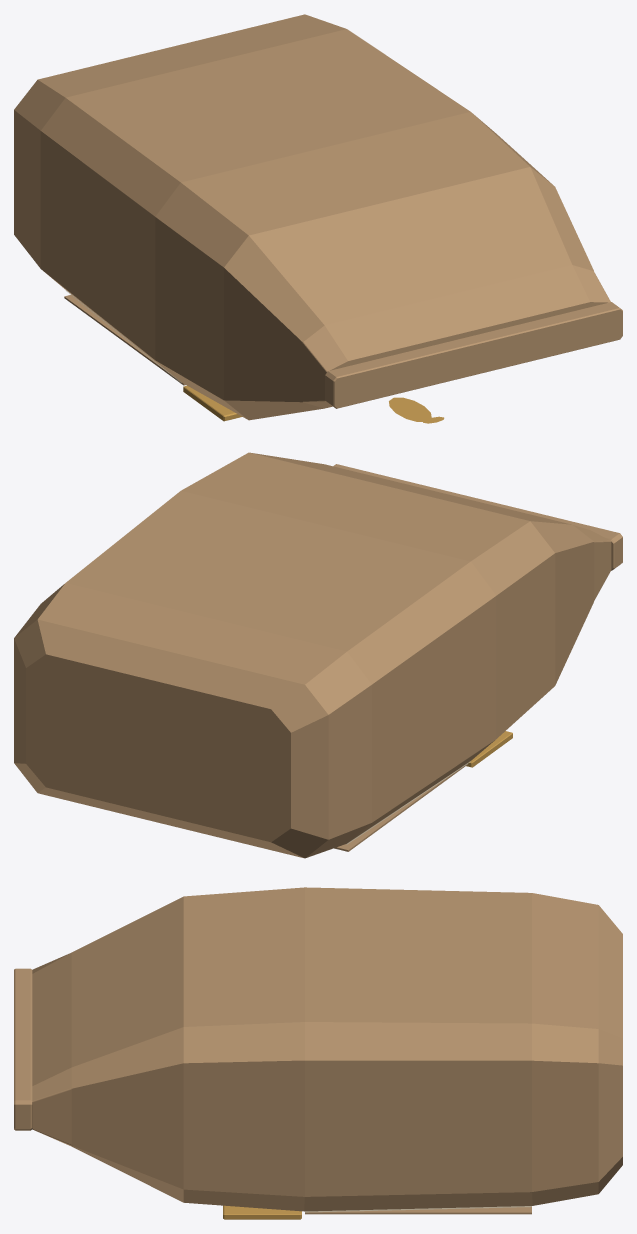
File: polenta.glb
3 views of the same model, one above another, from view 1: azimuth 30°, elevation 25°; view 2: azimuth 150°, elevation 25°; view 3: azimuth 270°, elevation 25° (orthographic). The views are drawn at different scales.
Parts seen in each view (by area): view 1: polenta; view 2: polenta; view 3: polenta.
Boxes of the visible parts, x1,y1,x2,y2 form: polenta: [14, 14, 622, 423]; polenta: [14, 452, 622, 858]; polenta: [14, 887, 622, 1219].
Size of the model in its own units: 0.1236 by 0.0721 by 0.201.
